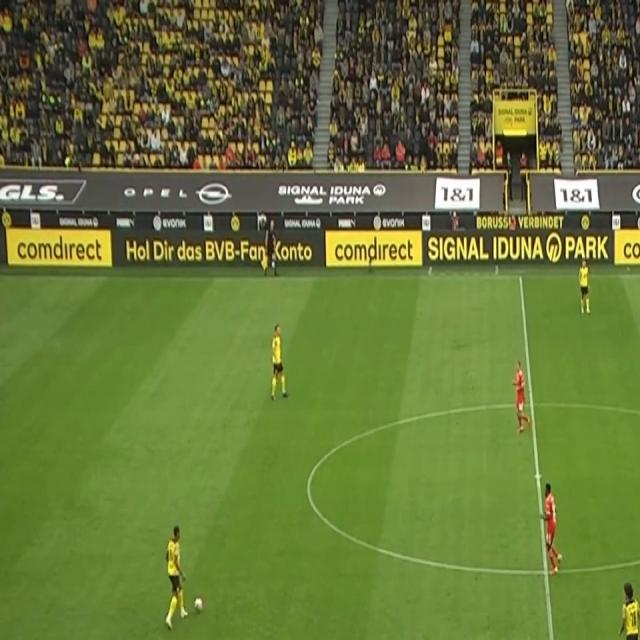ball: (192, 594, 205, 616)
